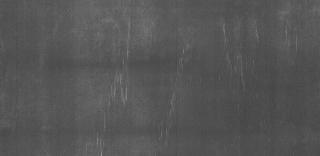silk spot: (95, 12, 134, 109), (154, 40, 194, 120), (211, 21, 251, 81), (271, 8, 303, 64)
